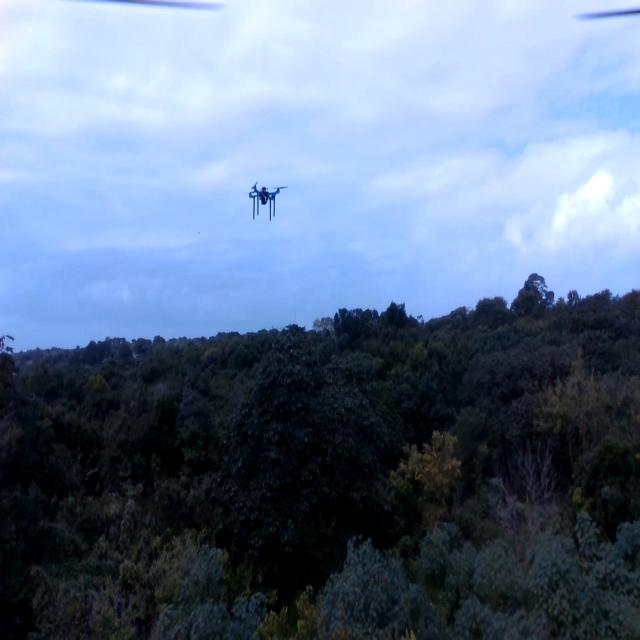-uav-: (242, 166, 294, 238)
